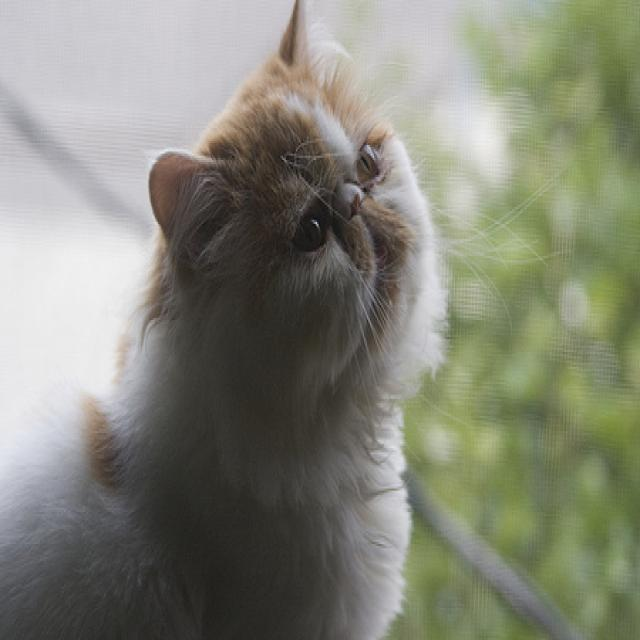Persian: (0, 0, 448, 640)
